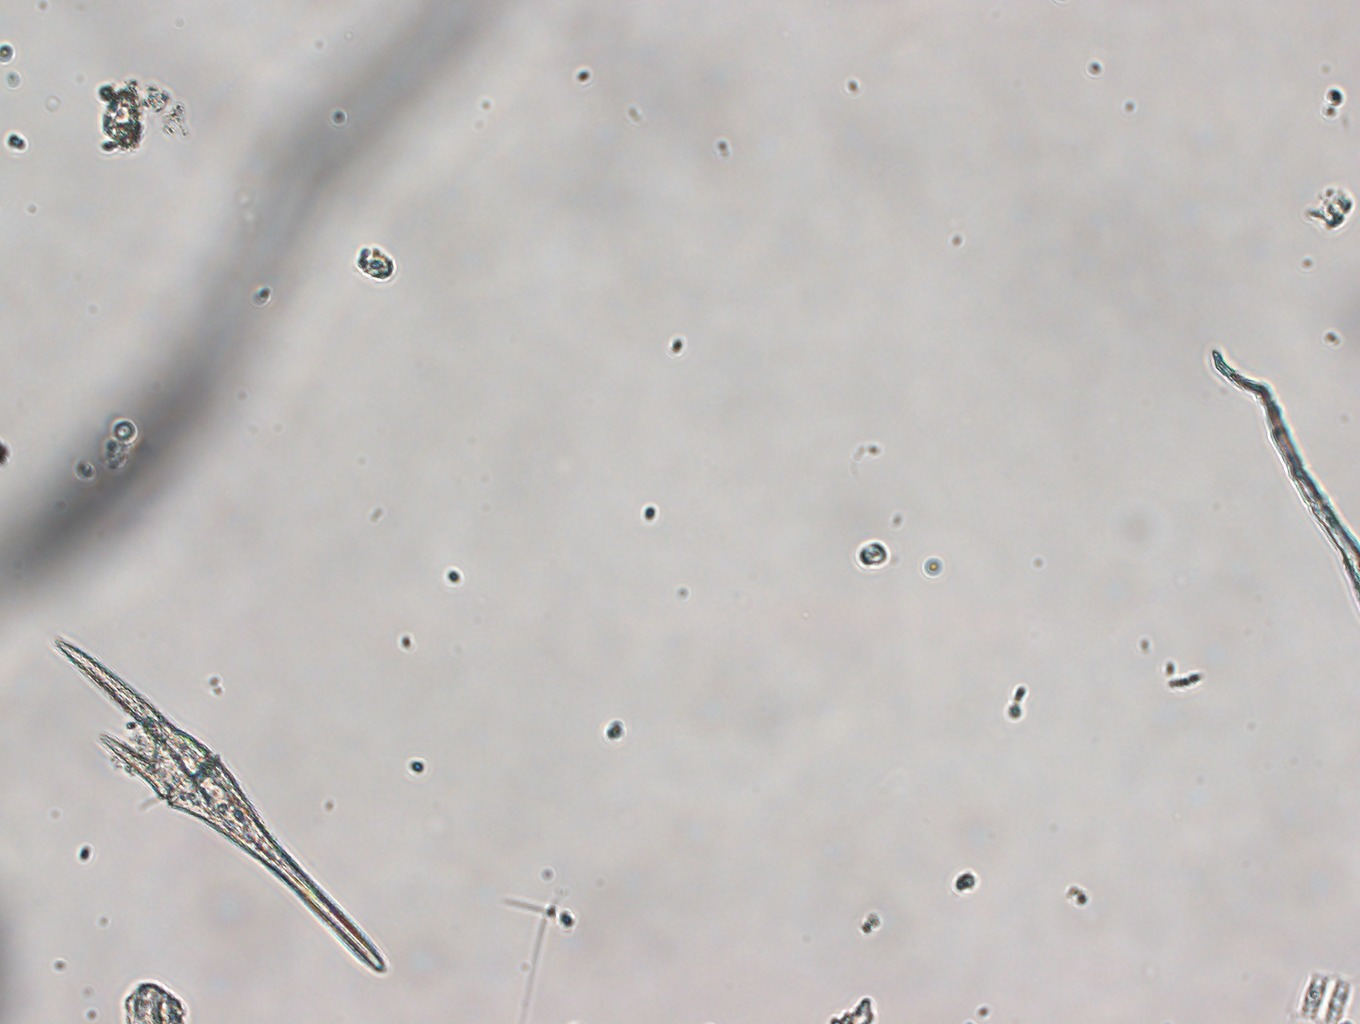ceratium furca: (47, 636, 390, 977)
